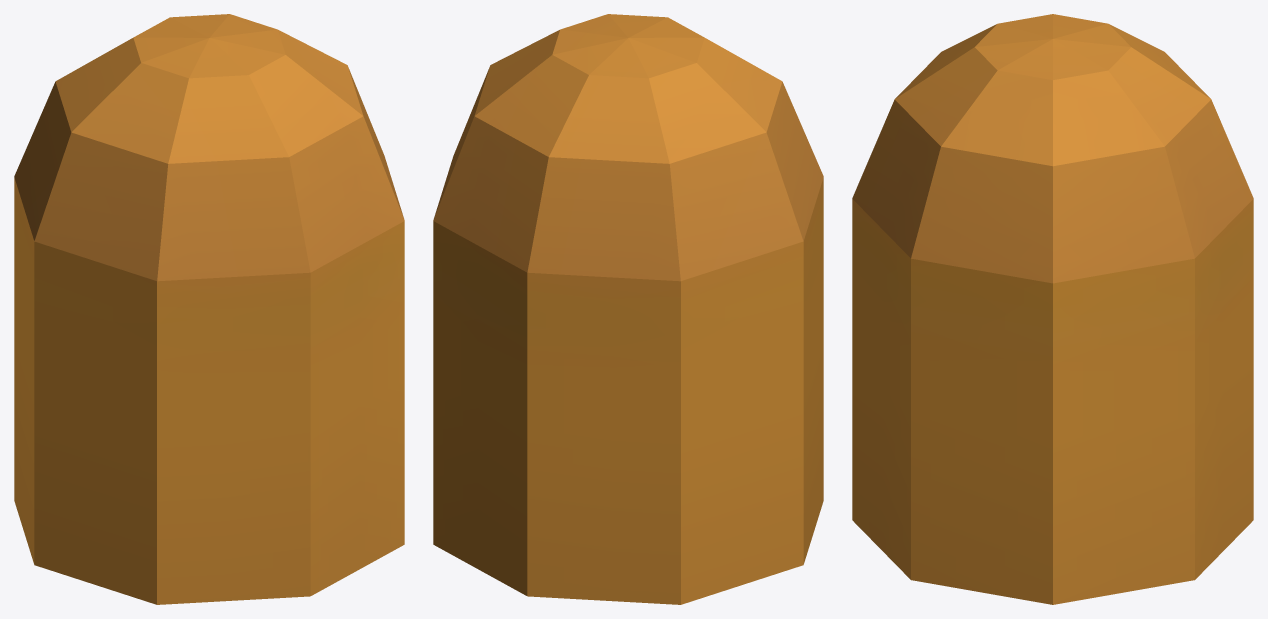
Rendered from Bullet_01.fbx.
3 views of the same model, side by side, from view 1: azimuth 30°, elevation 25°; view 2: azimuth 150°, elevation 25°; view 3: azimuth 270°, elevation 25° (orthographic).
Visible parts, largest first — view 1: Bullet; view 2: Bullet; view 3: Bullet.
Boxes of the visible parts, box(x1,y1,x2,y2) form: Bullet: box(14, 14, 404, 604); Bullet: box(433, 14, 823, 604); Bullet: box(852, 14, 1253, 604).
Bounding box in the file's own units: 0.1702 × 0.225 × 0.1702.
